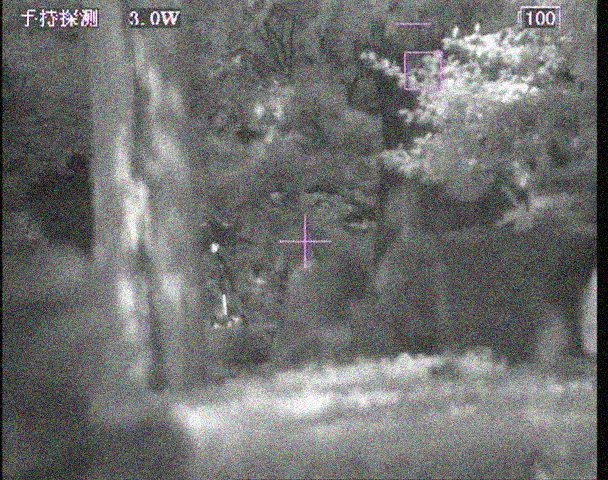my: (210, 241, 220, 254)
